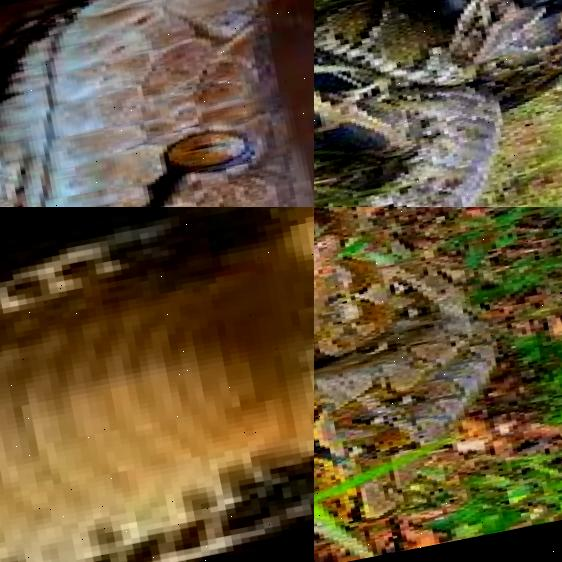snake: (0, 207, 314, 562), (314, 207, 562, 550), (0, 0, 314, 207), (314, 0, 562, 207)
